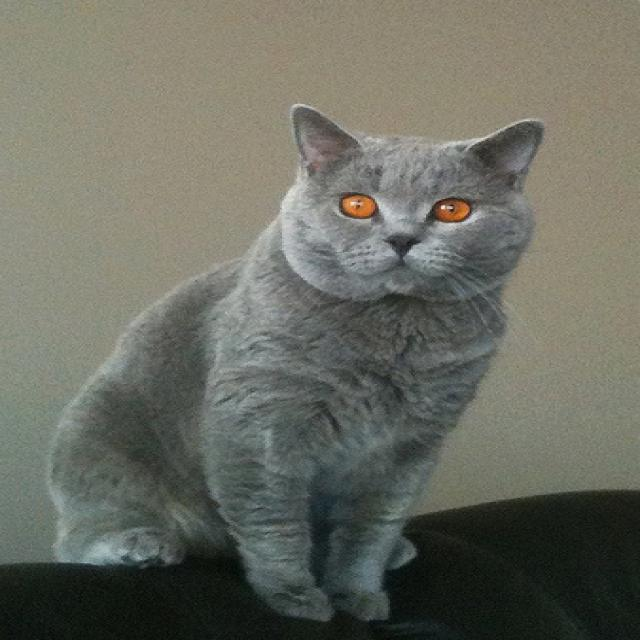British Shorthair: (39, 96, 547, 628)
